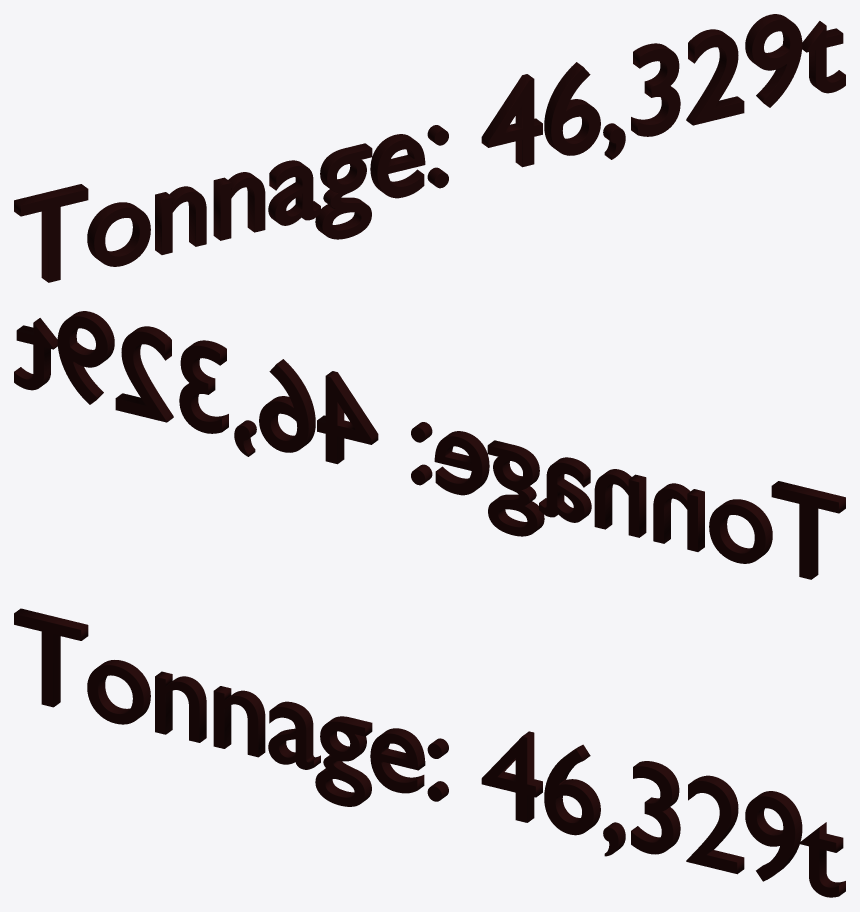
File: text_technical01.glb
The picture shows the model from 3 angles, top to bottom: view 1: azimuth 30°, elevation 25°; view 2: azimuth 150°, elevation 25°; view 3: azimuth 330°, elevation 25°; orthographic projection.
Parts seen in each view (by area): view 1: technical01; view 2: technical01; view 3: technical01.
Part boxes in pixels (left/top/right/bottom): technical01: left=14, top=14, right=845, bottom=282; technical01: left=14, top=311, right=845, bottom=579; technical01: left=14, top=608, right=845, bottom=897.
Size of the model in its own units: 121 by 15.92 by 1.79.
